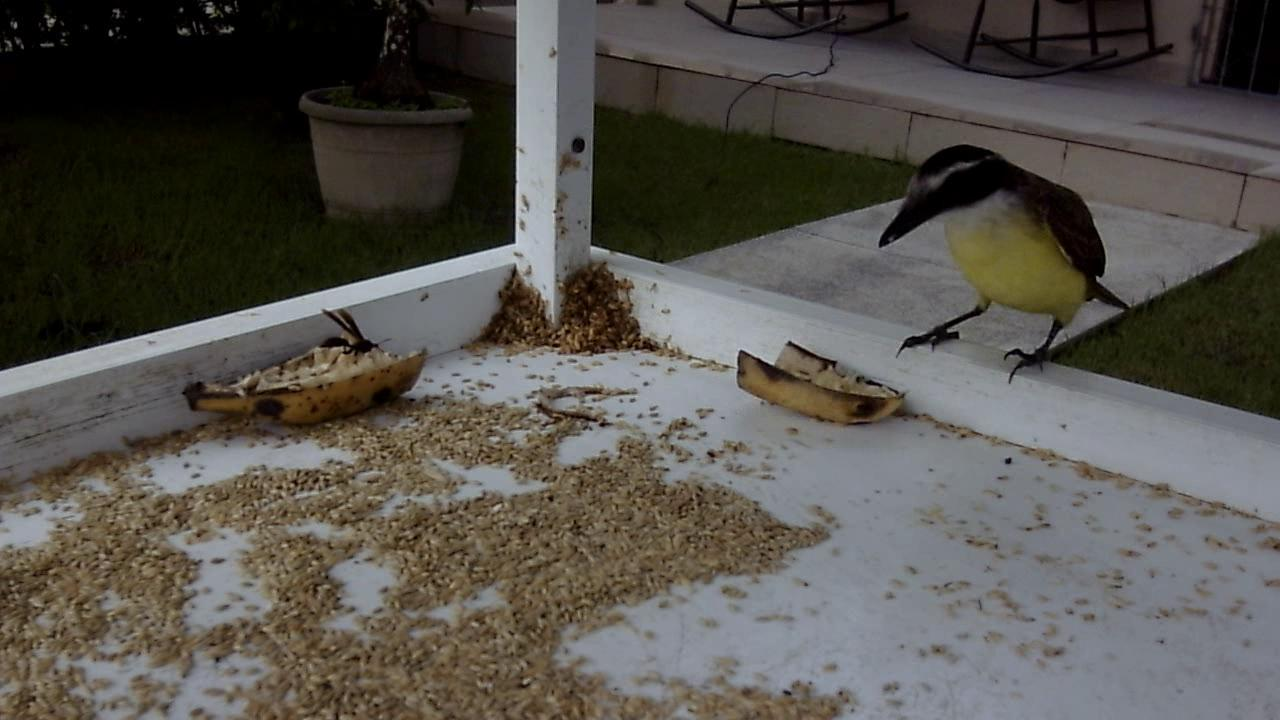bem_te_vi: (863, 132, 1142, 400)
